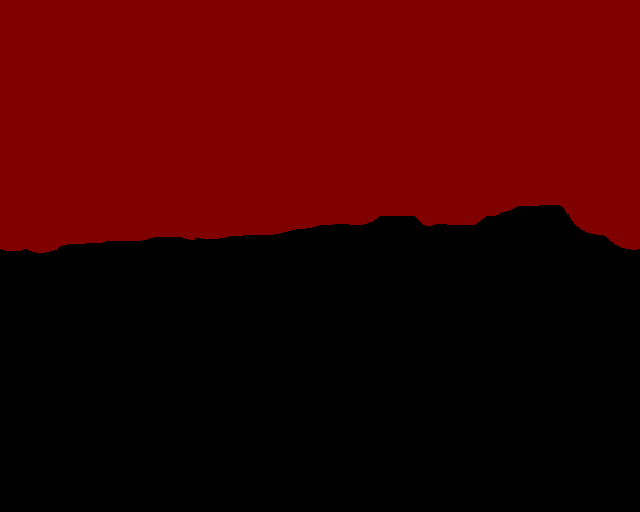Sky: (1, 1, 639, 253)
